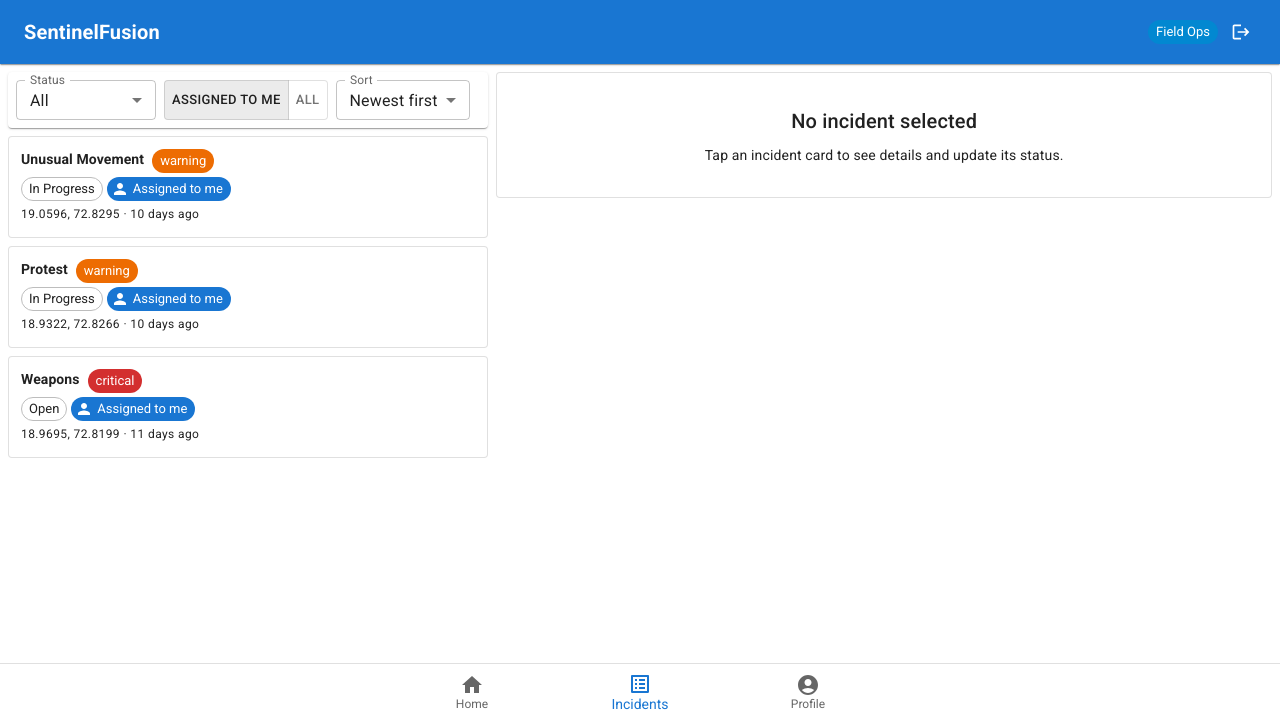
FieldOpsView › shows incident details when an incident is tapped
Click the heading "Weapons" at (50, 381), box [21,369,80,393]
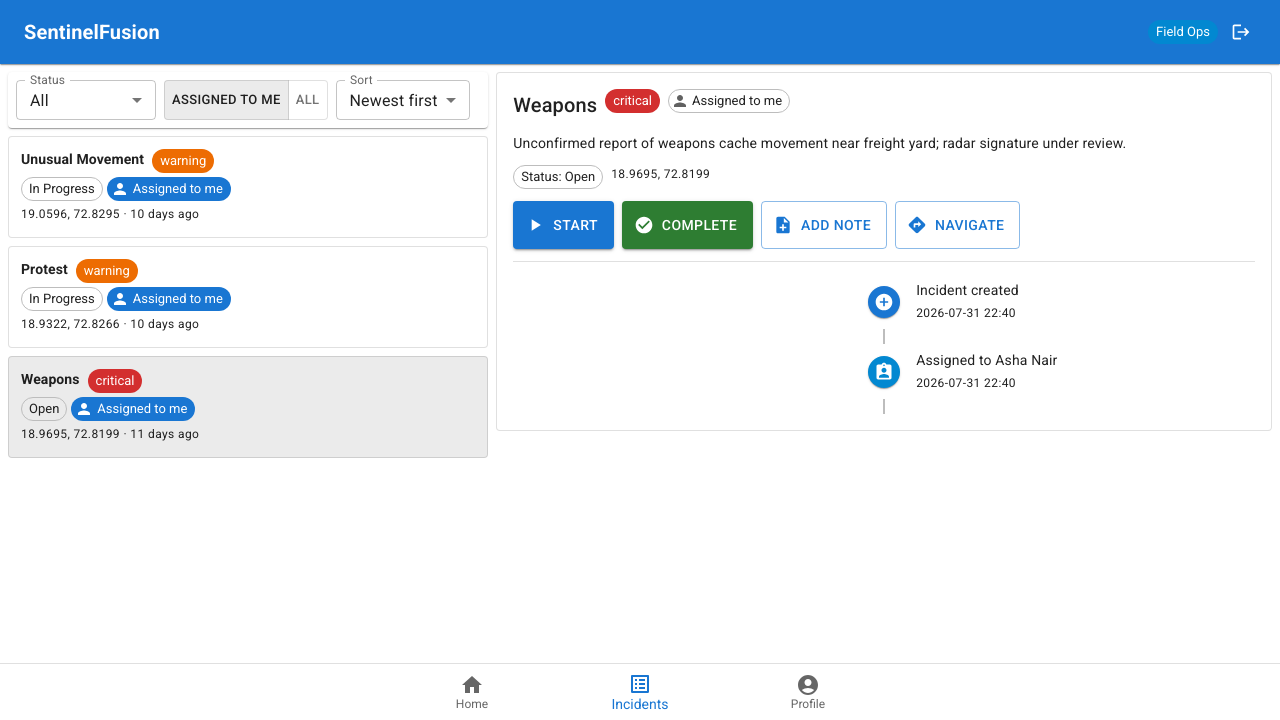
Check: the text "Unconfirmed report of weapons cache movement" is shown, box [513,135,1126,151]
Check: the text "Status: Open" is shown, box [521,169,595,184]
